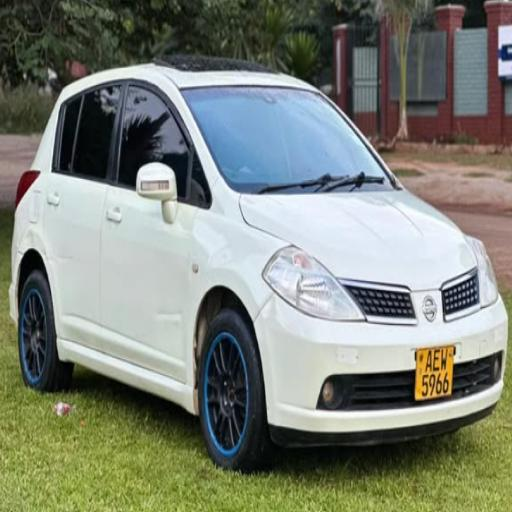number-plates: (415, 346, 455, 398)
